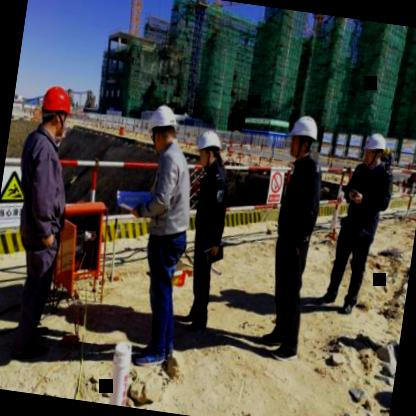helmet: (33, 80, 78, 144), (284, 110, 322, 164), (145, 100, 182, 153), (358, 130, 390, 174), (195, 128, 224, 167)
